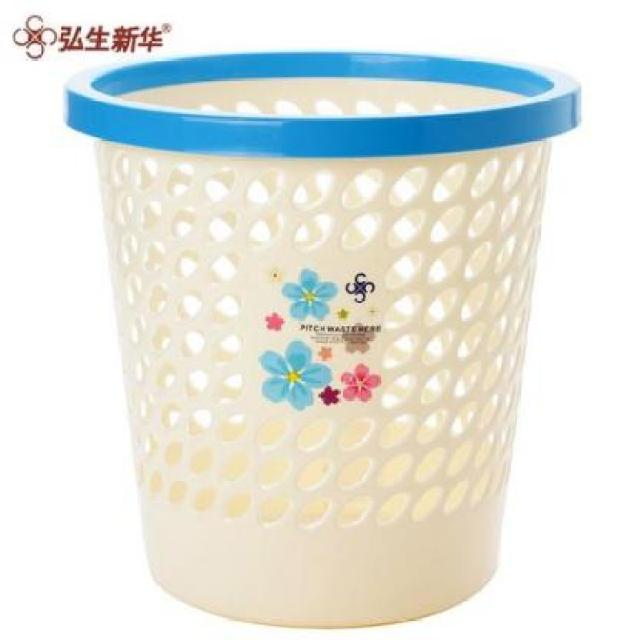dustbin: (60, 42, 585, 632)
